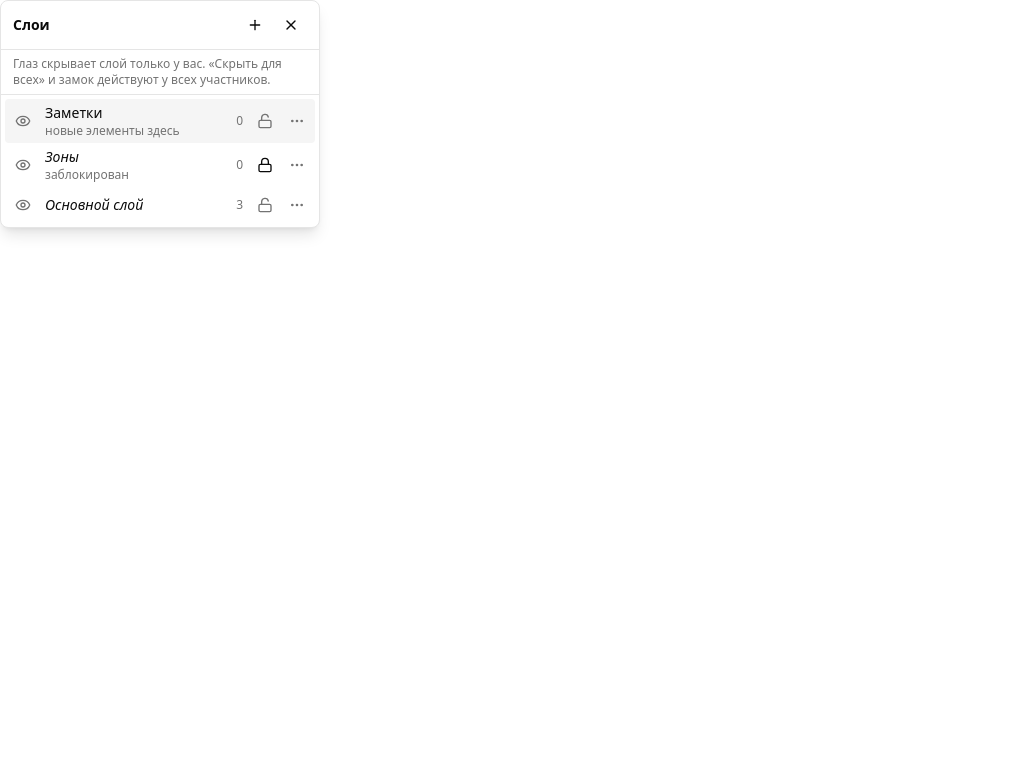
LayersPanel › removes an empty layer at once and keeps the main and locked layers
The image size is (1024, 768).
Click the button named "Действия со слоем «Заметки»": click(297, 121) x1=283 y1=107 x2=311 y2=135
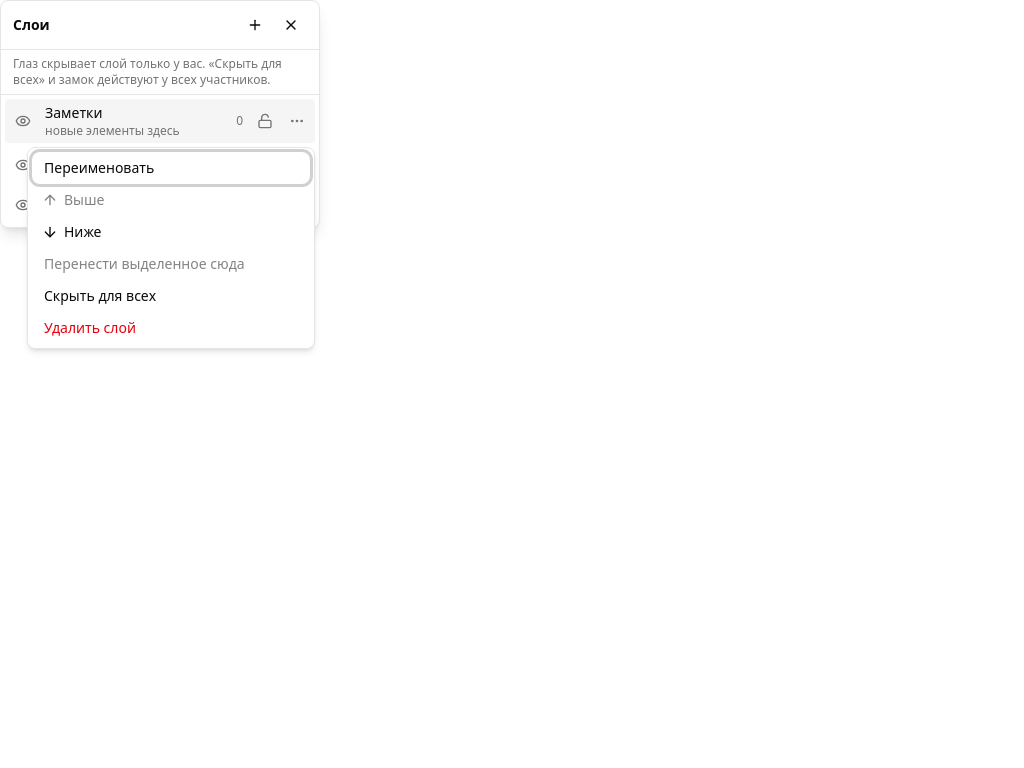
Click the menu item "Удалить слой": click(90, 328) x1=32 y1=312 x2=310 y2=344
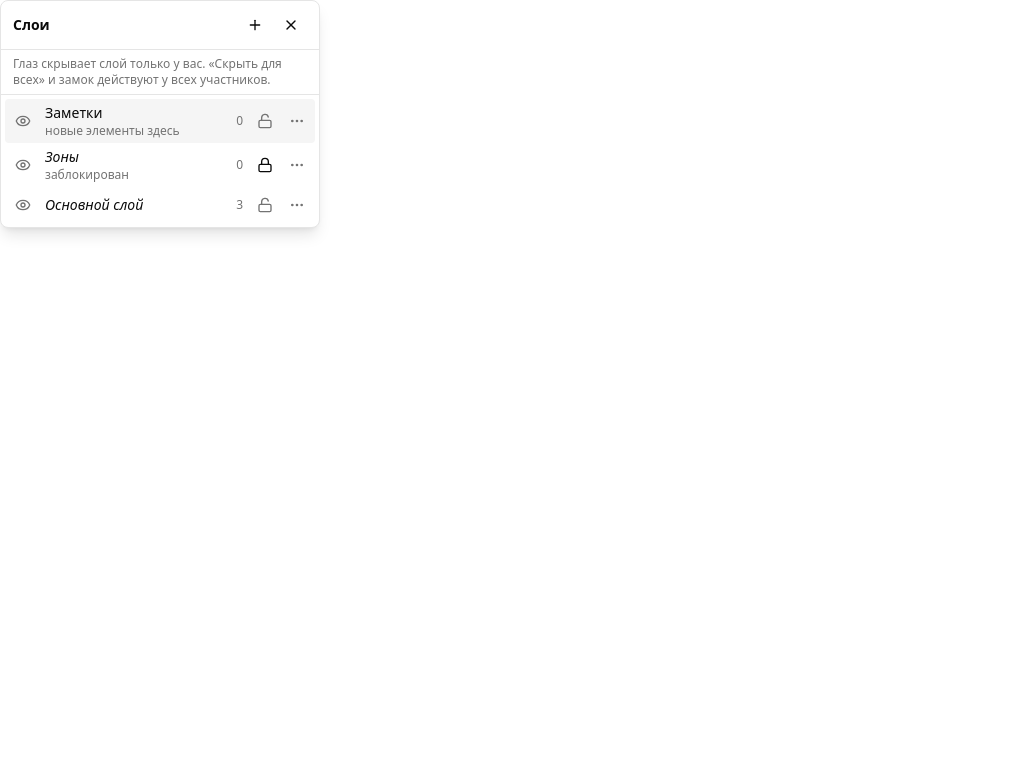
Click the button named "Действия со слоем «Основной слой»": click(297, 205) x1=283 y1=191 x2=311 y2=219
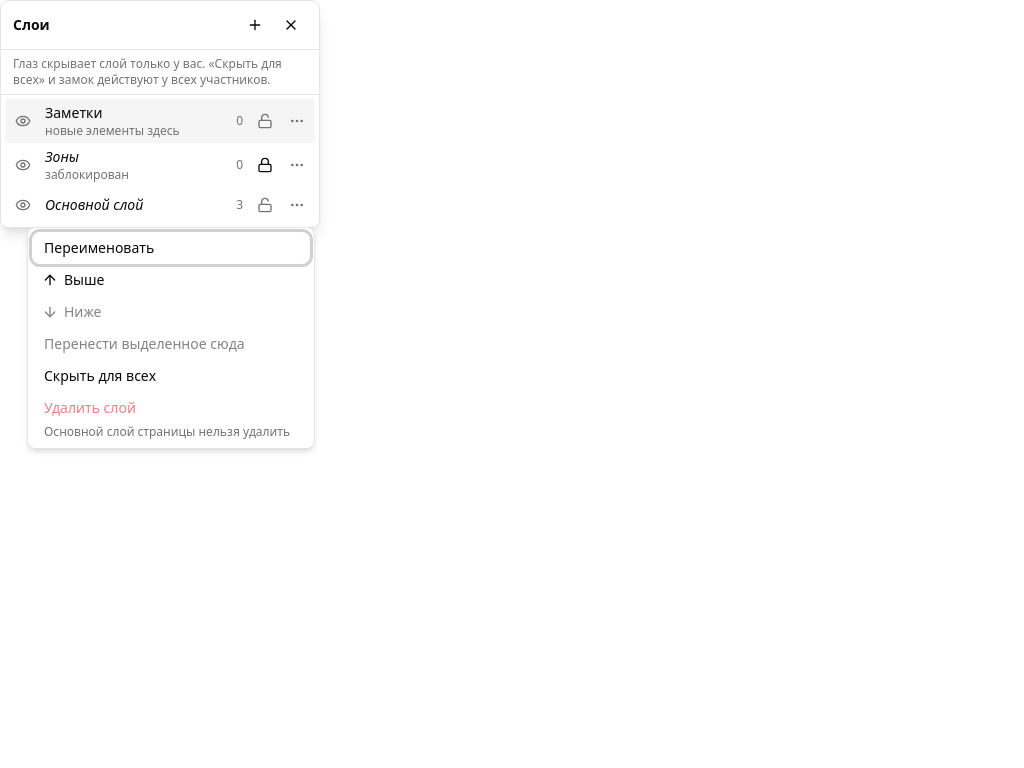
Expected: the menu item "Удалить слой" is disabled, x1=32 y1=392 x2=310 y2=424
Expected: the text "Основной слой страницы нельзя удалить" is shown, x1=32 y1=424 x2=310 y2=444
Press Escape
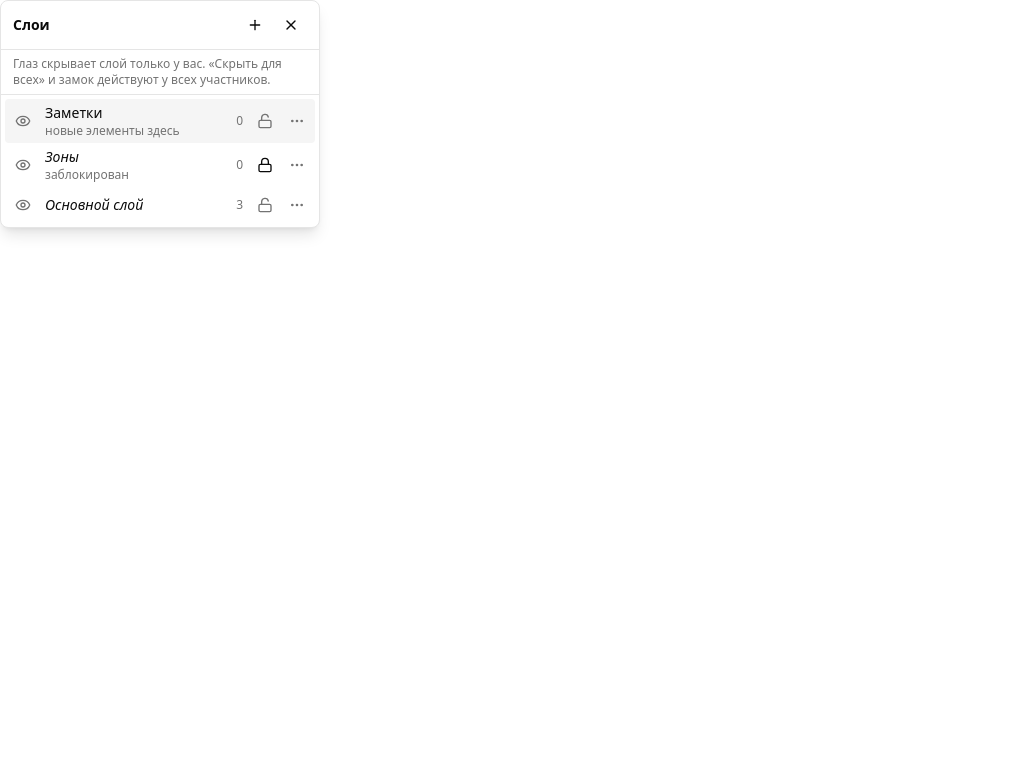
Click the button named "Действия со слоем «Зоны»": click(297, 165) x1=283 y1=151 x2=311 y2=179
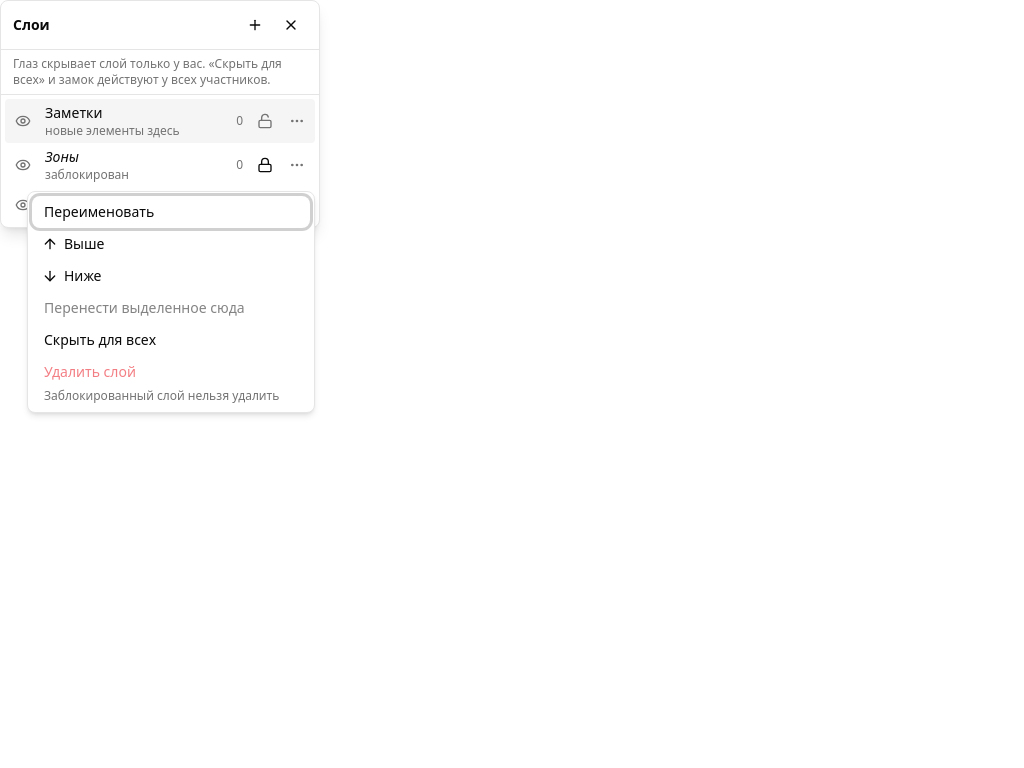
Expected: the text "Заблокированный слой нельзя удалить" is shown, x1=44 y1=387 x2=279 y2=404
